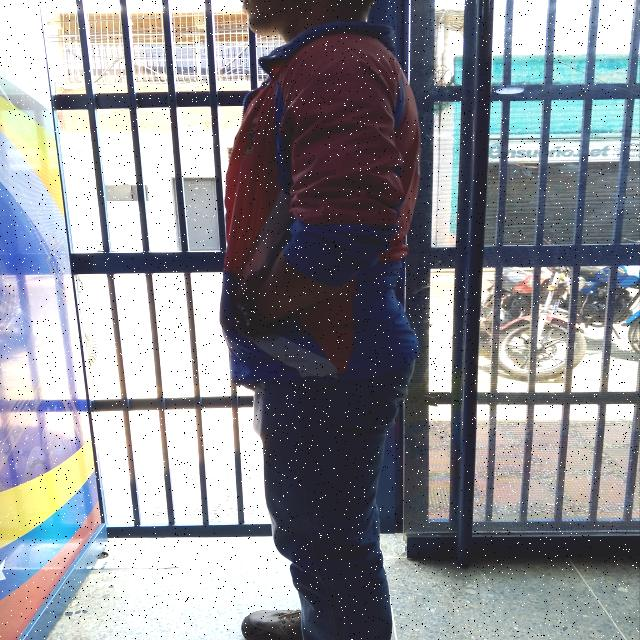chaqueta_unefa: (220, 20, 423, 390)
